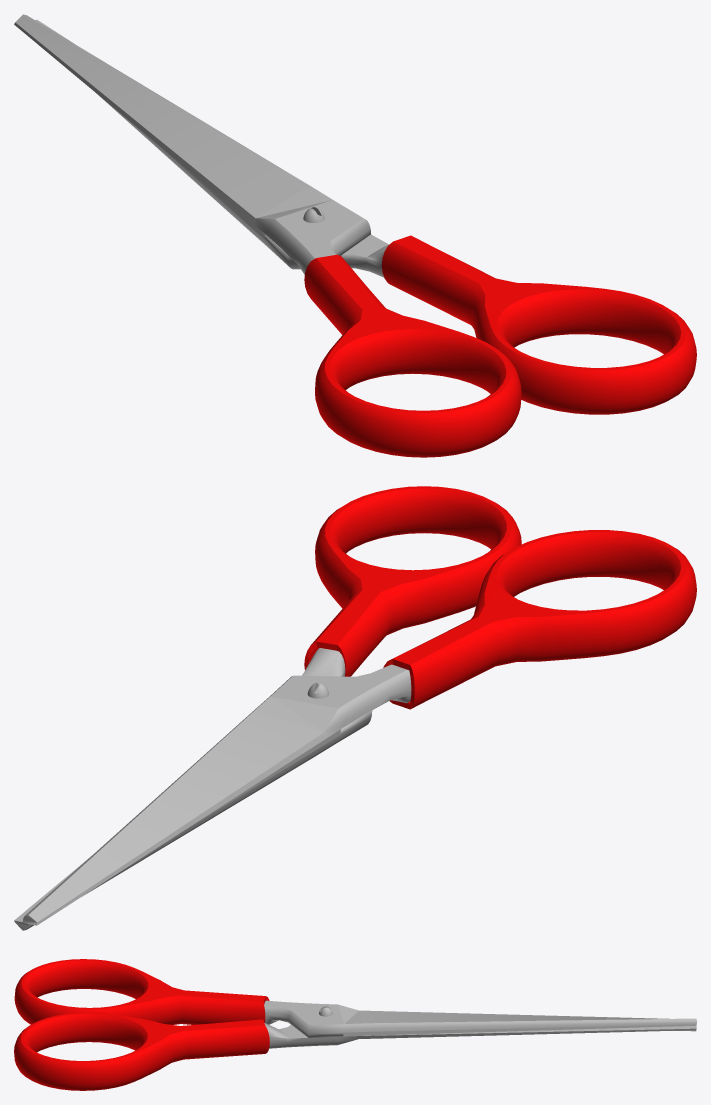
File: jiandao.FBX
3 views of the same model, one above another, from view 1: azimuth 30°, elevation 25°; view 2: azimuth 150°, elevation 25°; view 3: azimuth 270°, elevation 25° (orthographic). The views are drawn at different scales.
Visible parts, largest first — view 1: FD_jiandaowanzheng; view 2: FD_jiandaowanzheng; view 3: FD_jiandaowanzheng.
Part boxes in pixels (<box>): FD_jiandaowanzheng: <box>14,14,696,457</box>; FD_jiandaowanzheng: <box>14,486,696,930</box>; FD_jiandaowanzheng: <box>14,959,696,1090</box>.
Size of the model in its own units: 9.35 by 1.39 by 24.79.
